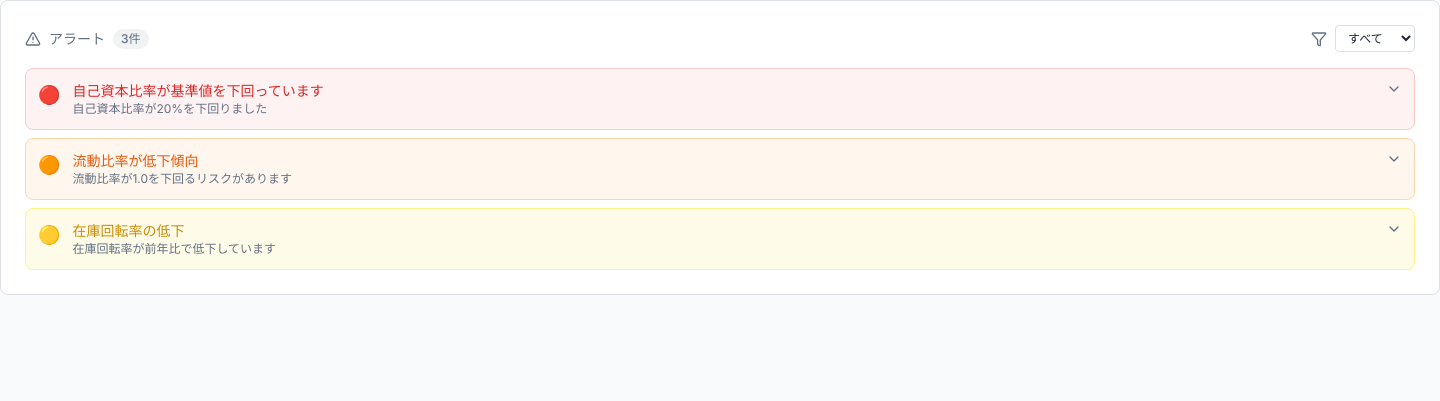
Scenario: AlertsList › should expand alert on click to show details
Click the text "自己資本比率が基準値を下回っています". click: (198, 90)
box: [72,82,324,99]
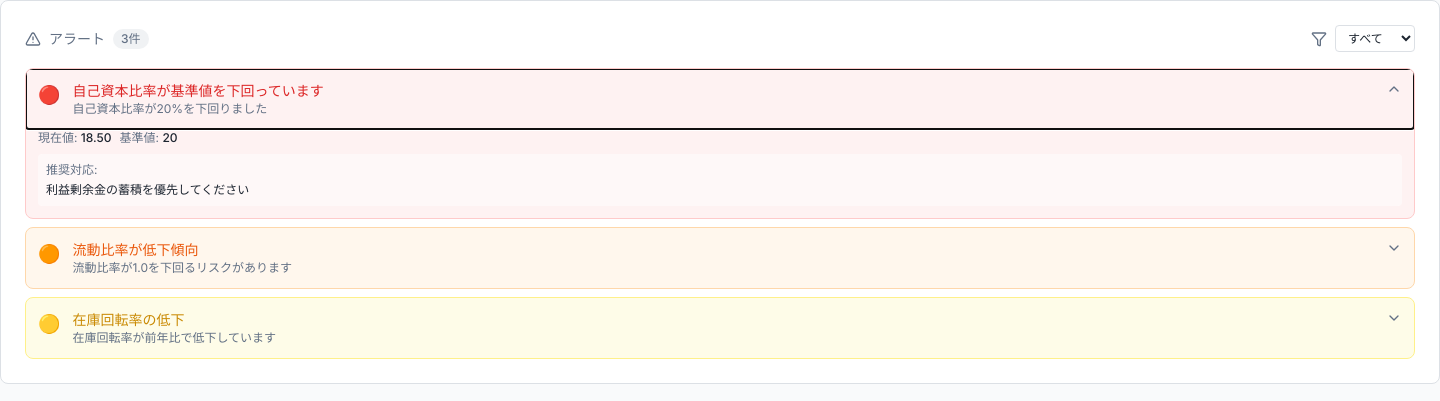
Result: the text "現在値:" is shown at [38,130,78,145]
Result: the text "基準値:" is shown at [120,130,159,145]
Result: the text "利益剰余金の蓄積を優先してください" is shown at [46,182,249,197]
